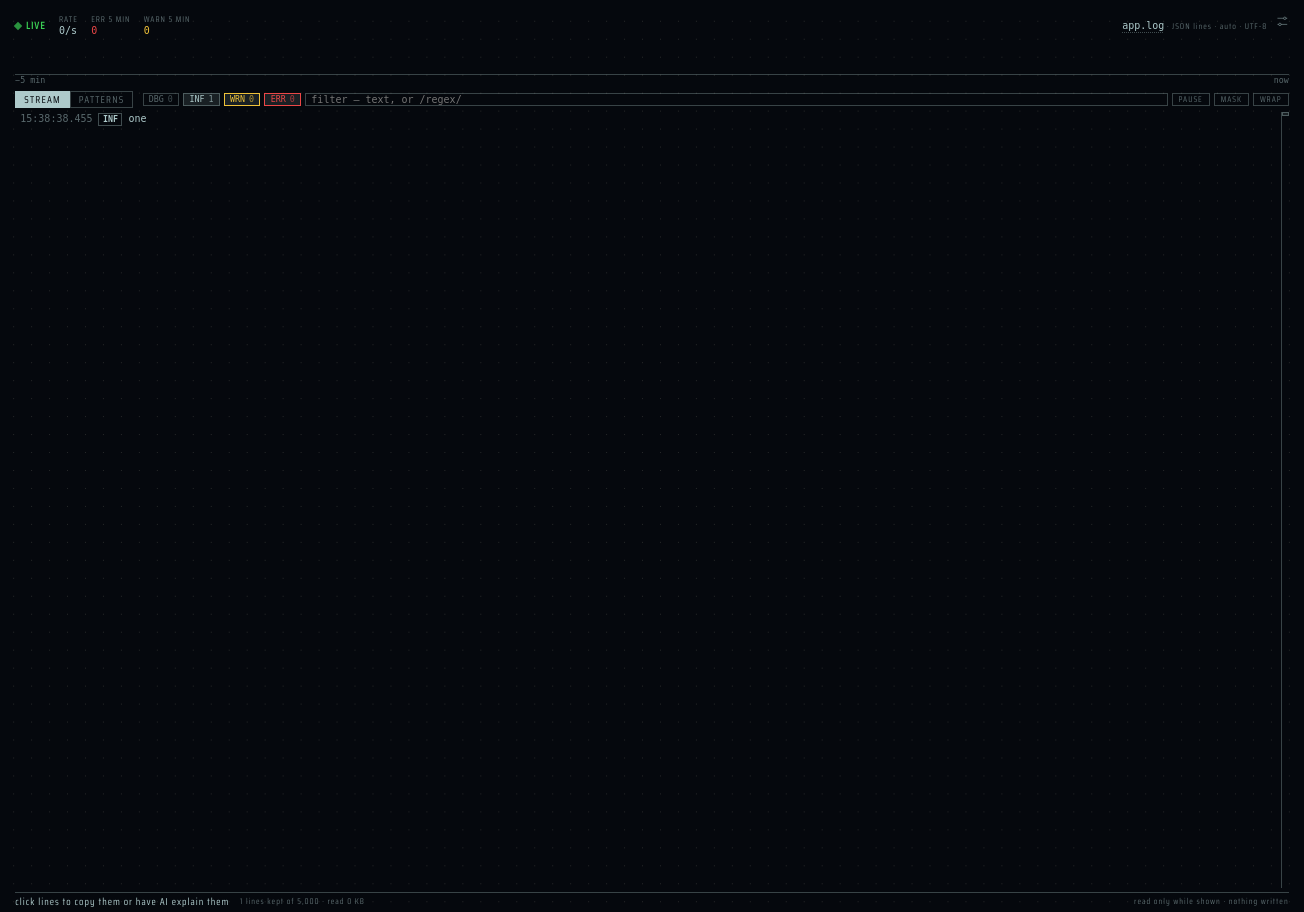
Test case: LogWatchWidget, from the review › reads the file again when the dialect main reads it in changes
The image size is (1304, 912).
Step 1. Click the button with test id "logwatch-settings-toggle" → (1283, 21), box [1273,12,1292,31]
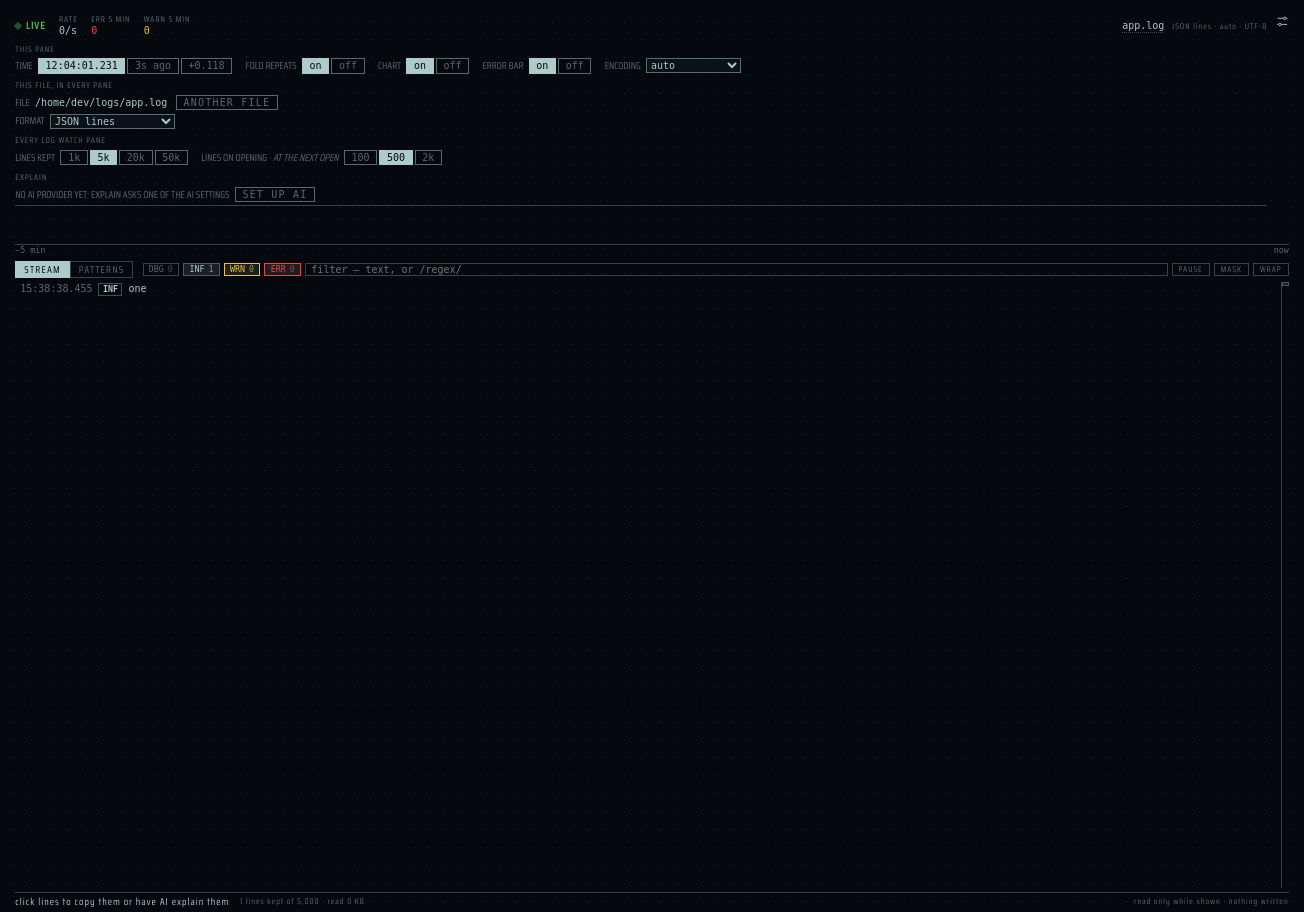
Expected: the dropdown with test id "logwatch-format" shows "JSON lines", [50,114,175,129]
